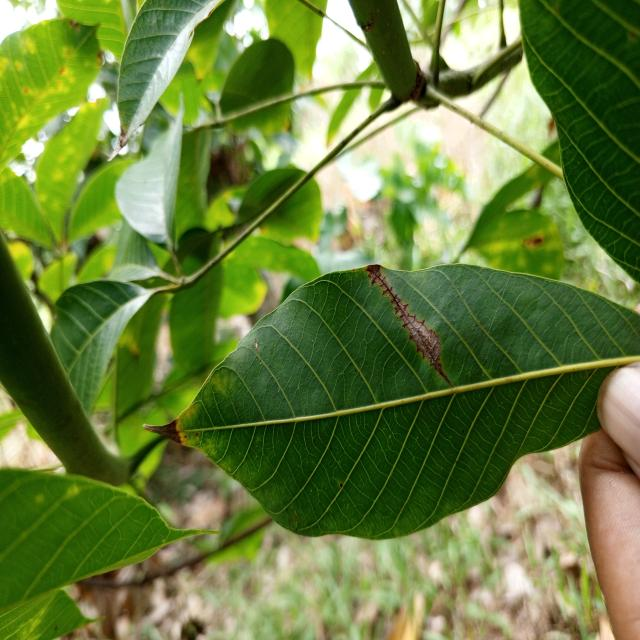Corynespora: (366, 267, 451, 385)
Leaf-Blight: (144, 419, 182, 445)
